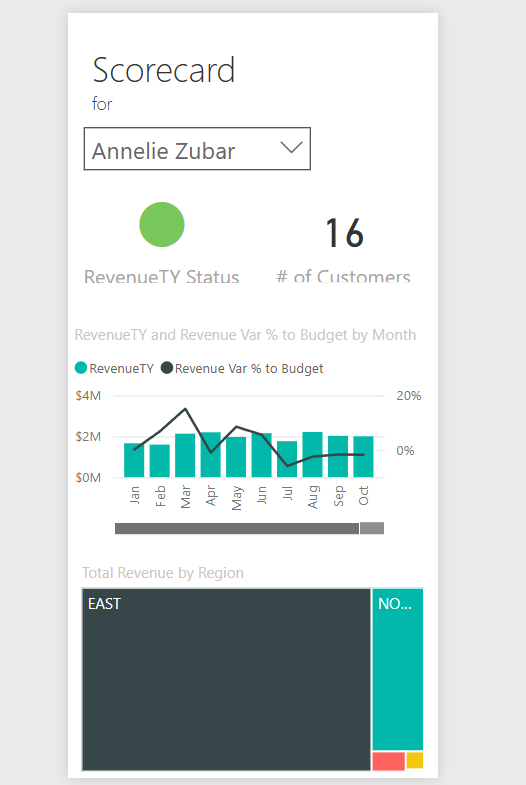

This screenshot's page, from the dashboard's own definition file:
{"tool":"powerbi","page":{"name":"Executive Scorecard","canvas":[296,592],"ordinal":3},"visuals":[{"type":"textbox","box":[14,0,238,70],"z":0},{"type":"slicer","fields":{"Values":["Executive.Name"]},"box":[3,61,201,54],"z":1000},{"type":"treemap","fields":{"Group":["State.Region"],"Values":["Fact.Total Revenue"]},"box":[6,419,284,173],"z":2000},{"type":"card","fields":{"Values":["Fact._RevenueTY Status"]},"box":[3,128,144,73],"z":3000},{"type":"card","fields":{"Values":["Fact.# of Customers"]},"box":[145,129,151,71],"z":4000},{"type":"lineStackedColumnComboChart","fields":{"Y":["Fact.RevenueTY"],"Category":["Date.Month"],"Y2":["Fact.Revenue Var % to Budget"]},"box":[0,229,289,173],"z":5000}]}

Visuals, with their boxes on the page's 296x592 design canvas (x1, y1, x2, y2). These are canvas units, not pixel positions in the 526x785 screenshot, which may show the page scaled, cropped or inside an application window:
textbox: <box>14,0,252,70</box>
slicer - Executive.Name: <box>3,61,204,115</box>
treemap - State.Region x Fact.Total Revenue: <box>6,419,290,592</box>
card - Fact._RevenueTY Status: <box>3,128,147,201</box>
card - Fact.# of Customers: <box>145,129,296,200</box>
lineStackedColumnComboChart - Fact.RevenueTY x Date.Month: <box>0,229,289,402</box>
